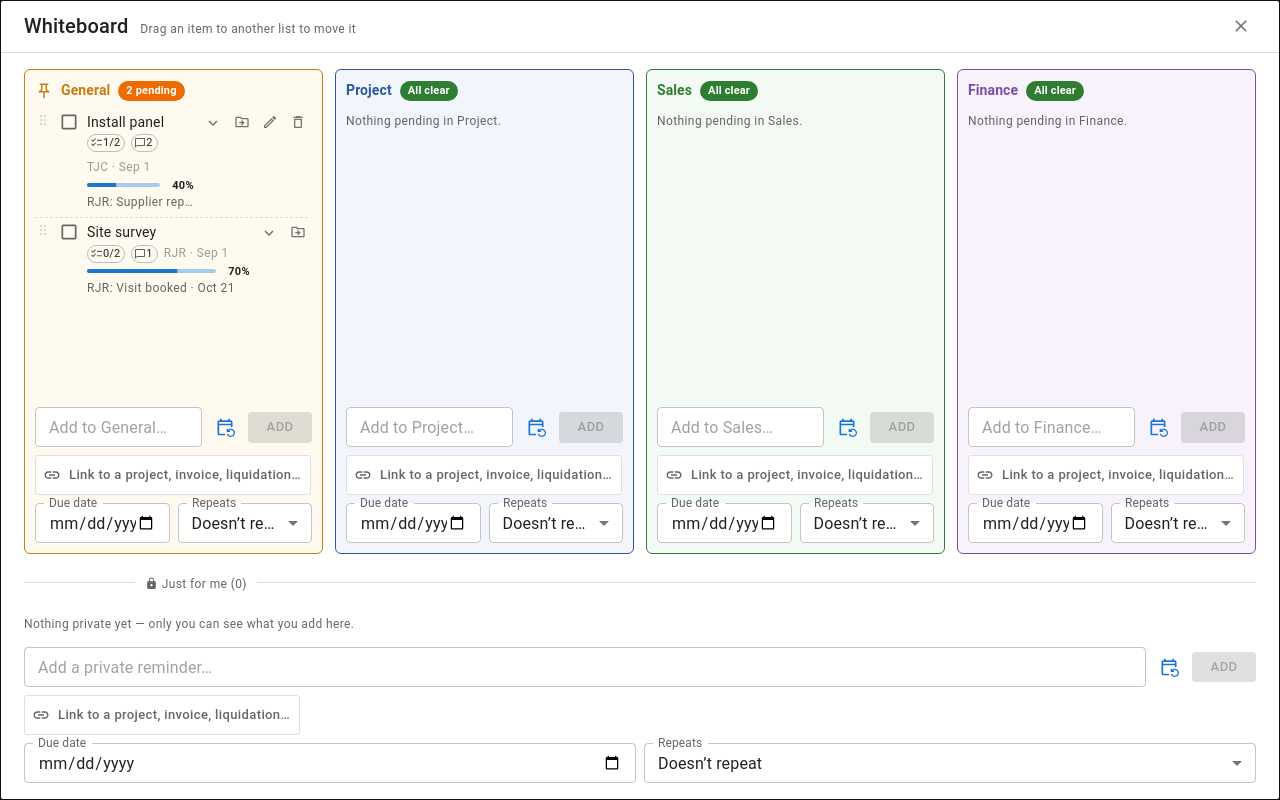
subtasks, status notes and progress › expands to a clean read-only view — no input boxes until you ask for one — and collapses again
Click the button named "show subtasks and notes" next to "Install panel" at (213, 123), box [202, 112, 224, 134]
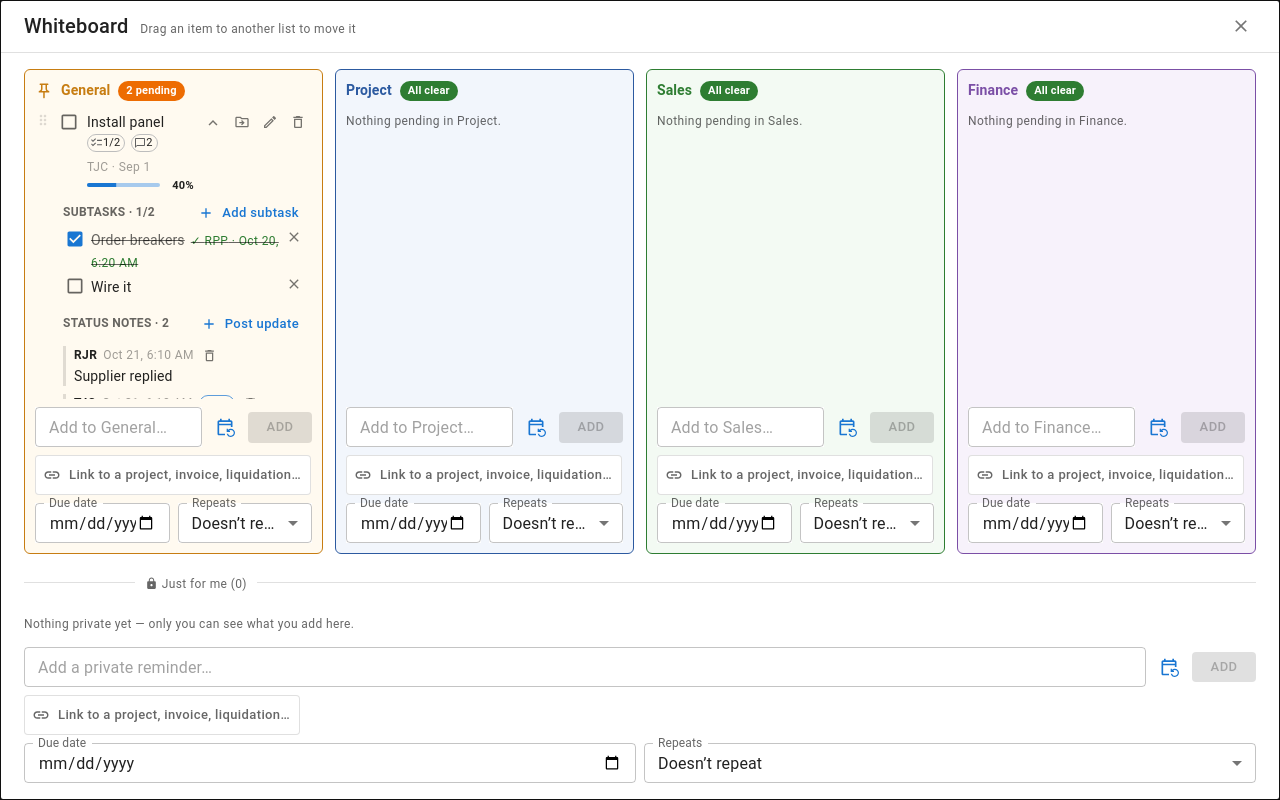
Expected: the text "Order breakers" is shown, [91, 232, 185, 248]
Expected: the button "Add subtask" is shown, [195, 200, 304, 226]
Expected: the button "Post update" is shown, [198, 310, 304, 337]
Click the button named "hide subtasks and notes" at (213, 123), box [202, 112, 224, 134]
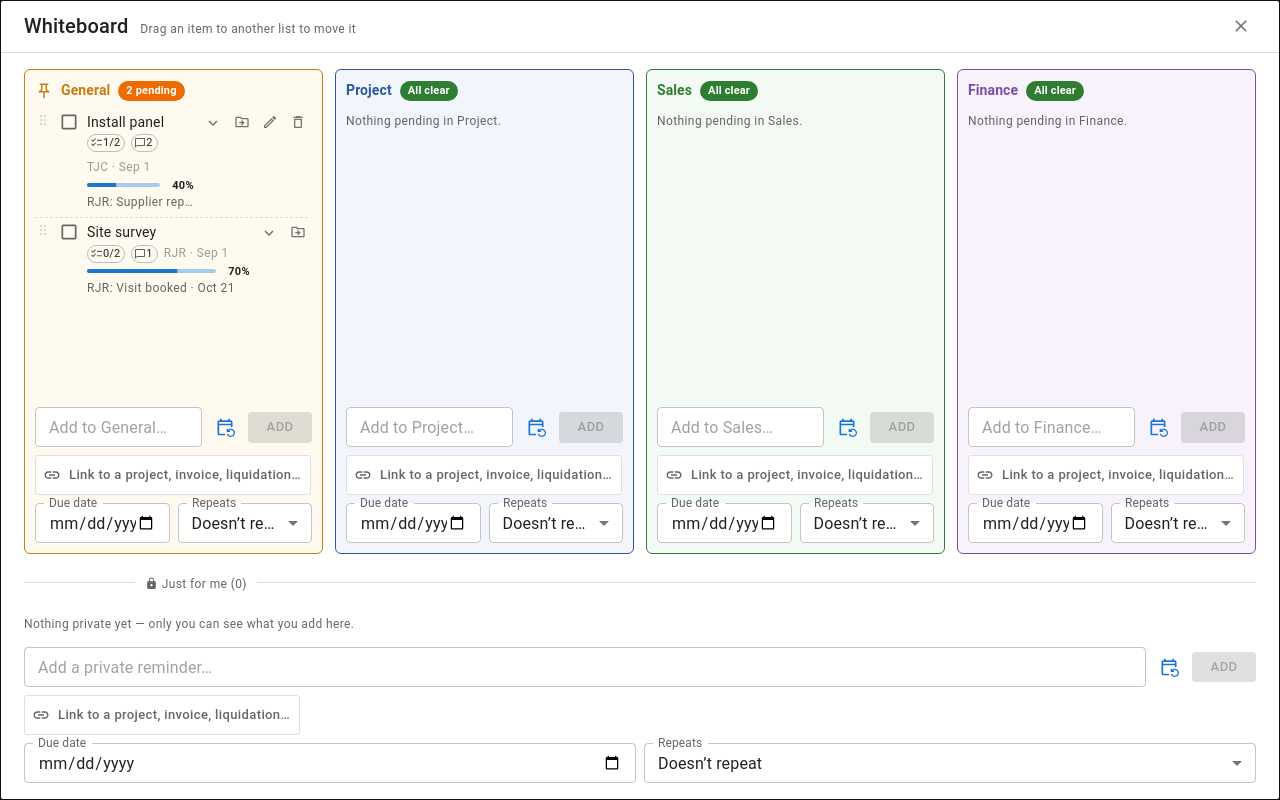
Expected: the element with test id "wb-detail-mine" is gone
